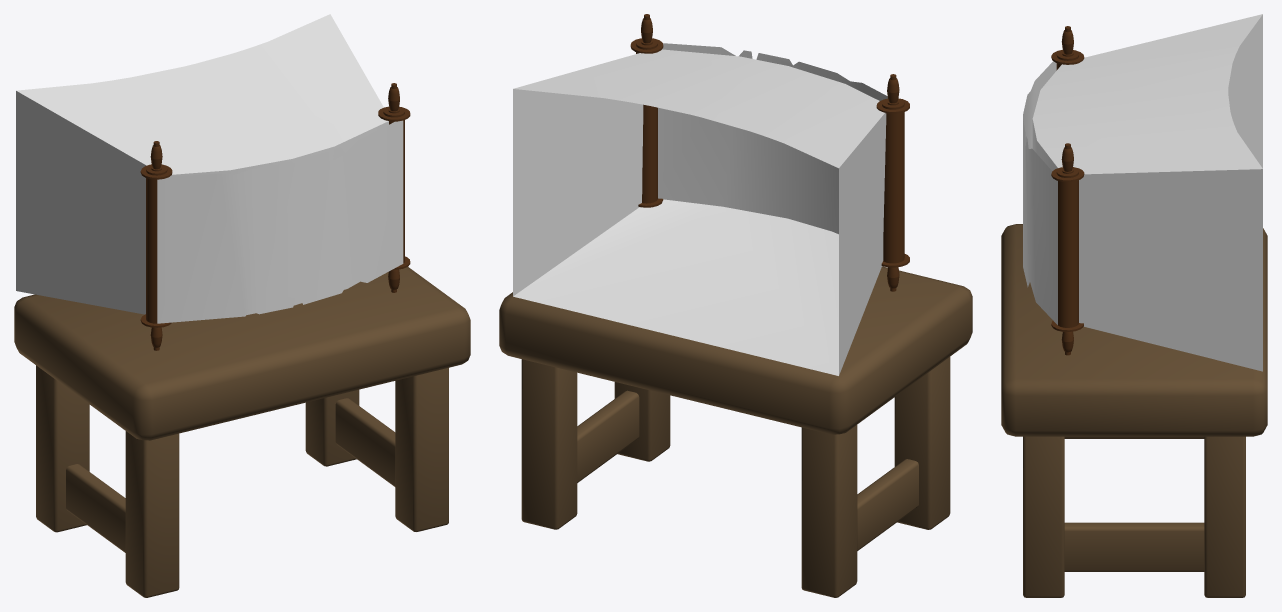
Rendered from Desk.fbx.
3 renders of one model, left to right at view 1: azimuth 30°, elevation 25°; view 2: azimuth 150°, elevation 25°; view 3: azimuth 270°, elevation 25°, orthographic. The views are drawn at different scales.
Parts seen in each view (by area): view 1: Cube.001, BlueScreen, Scroll; view 2: BlueScreen, Cube.001, Scroll; view 3: BlueScreen, Cube.001, Scroll.
Boxes of the visible parts, <box> form: Cube.001: <box>14,267,470,597</box>; BlueScreen: <box>16,14,388,314</box>; Scroll: <box>140,83,410,350</box>; BlueScreen: <box>513,49,886,375</box>; Cube.001: <box>499,266,972,597</box>; Scroll: <box>630,14,909,291</box>; BlueScreen: <box>1032,14,1262,371</box>; Cube.001: <box>1001,224,1267,597</box>; Scroll: <box>1023,26,1084,355</box>.
Size of the model in its own units: 1.12 by 1.38 by 0.7616.
